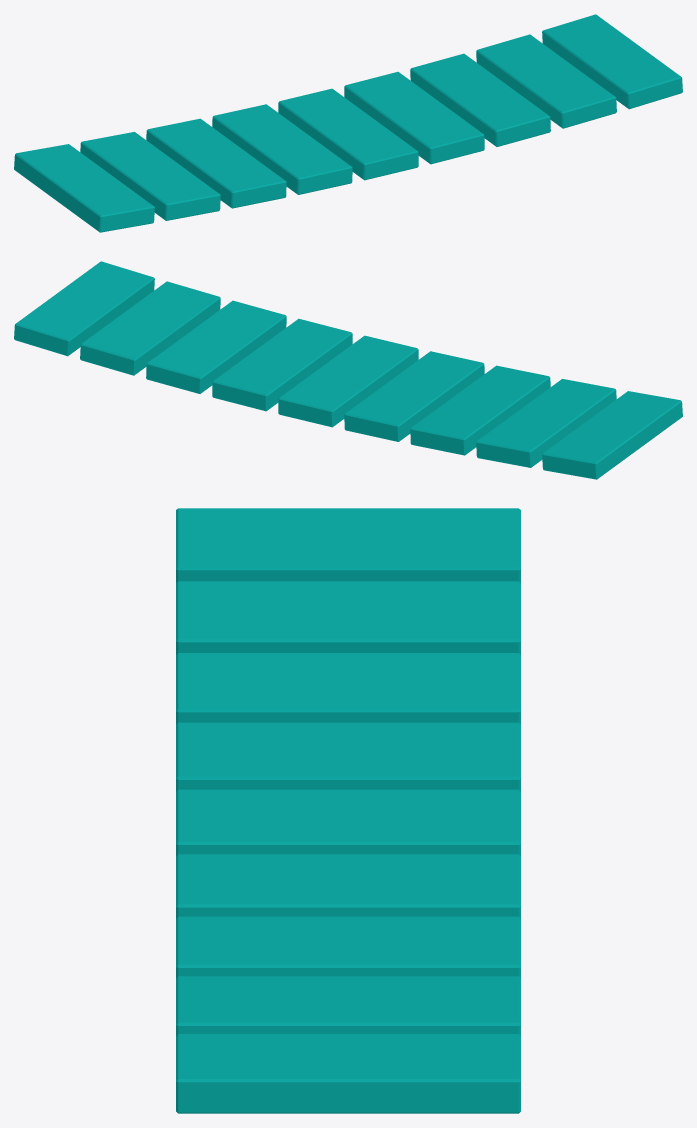
Rendered from PonteTexture.fbx.
3 renders of one model, top to bottom at view 1: azimuth 30°, elevation 25°; view 2: azimuth 150°, elevation 25°; view 3: azimuth 270°, elevation 25°, orthographic. The views are drawn at different scales.
Parts seen in each view (by area): view 1: Ponte; view 2: Ponte; view 3: Ponte.
Part boxes in pixels (x1,y1,x2,y2): Ponte: (14, 14, 682, 232); Ponte: (14, 261, 682, 479); Ponte: (176, 508, 520, 1113).
Bounding box in the file's own units: 13.41 × 0.6438 × 3.44.
